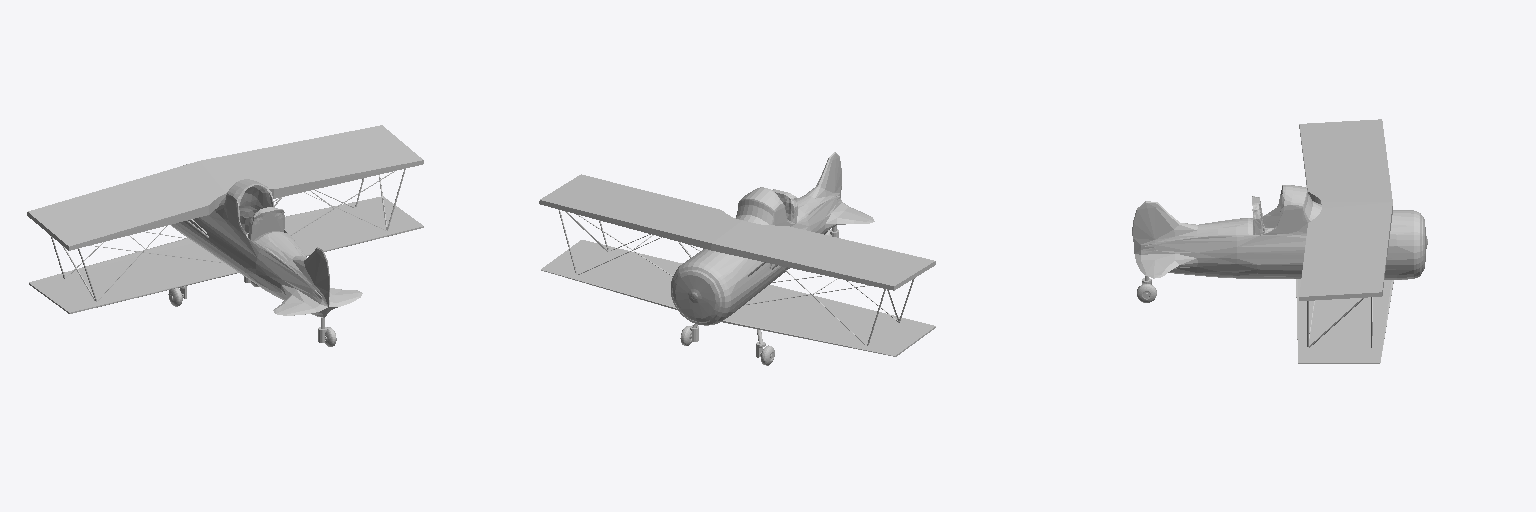
File: SceneExporter_Original.obj
The picture shows the model from 3 angles: view 1: azimuth 30°, elevation 25°; view 2: azimuth 150°, elevation 25°; view 3: azimuth 270°, elevation 25°; orthographic projection.
Visible parts, largest first — view 1: AirPlane; view 2: AirPlane; view 3: AirPlane.
Boxes of the visible parts, box(x1,y1,x2,y2) form: AirPlane: box(27, 125, 423, 346); AirPlane: box(539, 152, 935, 365); AirPlane: box(1132, 119, 1427, 363).
Size of the model in its own units: 4.6 by 1.72 by 3.32.